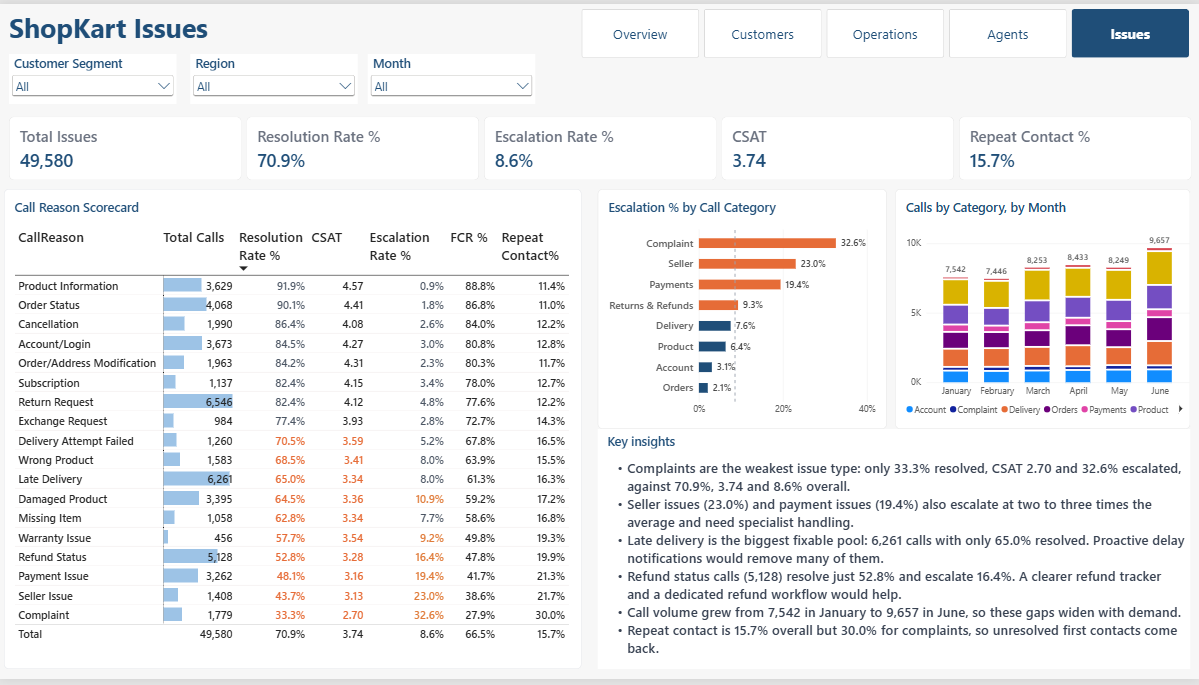

This screenshot's page, from the dashboard's own definition file:
{"tool":"powerbi","page":{"name":"Issues","canvas":[1920,1080],"ordinal":4},"visuals":[{"type":"slicer","fields":{"Values":["DimDate.Month"]},"box":[590,80.4,268,80],"z":0},{"type":"textbox","box":[16,8,352,70],"z":1000},{"type":"slicer","fields":{"Values":["DimCustomer.CustomerSegment"]},"box":[16,80.4,268,80],"z":2000},{"type":"slicer","fields":{"Values":["DimLocation.Region"]},"box":[306,80.4,268,80],"z":3000},{"type":"pageNavigator","box":[932,8,974,78],"z":4000},{"type":"cardVisual","fields":{"Data":["allMeasures.Total Calls","allMeasures.Resolution Rate %","allMeasures.Escalation Rate %","allMeasures.CSAT","allMeasures.Repeat Contact Rate %"]},"box":[16,180,1892,102],"z":5000},{"type":"tableEx","title":"Call Reason Scorecard","fields":{"Values":["DimCallReason.CallReason","allMeasures.Total Calls","allMeasures.Resolution Rate %","allMeasures.CSAT","allMeasures.Escalation Rate %","allMeasures.FCR %","allMeasures.Repeat Contact Rate %"]},"box":[8,296,924,768],"z":6000},{"type":"barChart","title":"Escalation % by Call Category","fields":{"Category":["DimCallReason.Category"],"Y":["allMeasures.Escalation Rate %"]},"box":[958,296,462,384],"z":7000},{"type":"columnChart","title":"Calls by Category, by Month","fields":{"Category":["DimDate.Month"],"Series":["DimCallReason.Category"],"Y":["allMeasures.Total Calls"]},"box":[1434,296,472,384],"z":8000},{"type":"textbox","title":"Key insights","box":[958,680,948,384],"z":9000}]}

Visuals, with their boxes in screenshot pixels (x1, y1, x2, y2), scaled from the page's 1920x1080 canvas onto the 1199x685 screenshot:
slicer - DimDate.Month: 368:51:536:102
textbox: 10:5:230:49
slicer - DimCustomer.CustomerSegment: 10:51:177:102
slicer - DimLocation.Region: 191:51:358:102
pageNavigator: 582:5:1190:55
cardVisual - allMeasures.Total Calls x allMeasures.Resolution Rate %: 10:114:1192:179
"Call Reason Scorecard" tableEx: 5:188:582:675
"Escalation % by Call Category" barChart: 598:188:887:431
"Calls by Category, by Month" columnChart: 896:188:1190:431
"Key insights" textbox: 598:431:1190:675
